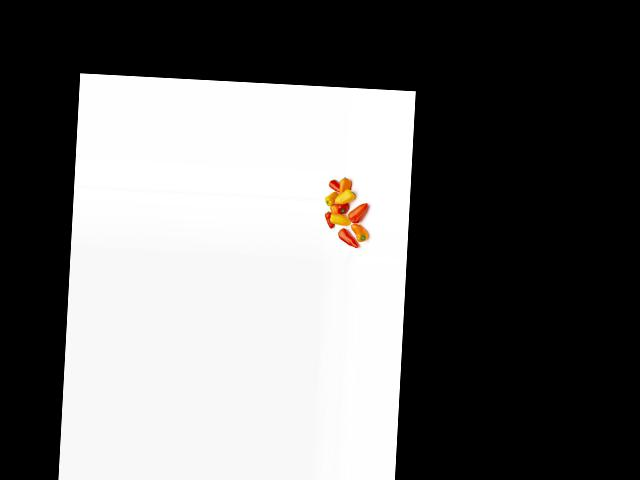bell_pepper: (323, 210, 333, 230)
